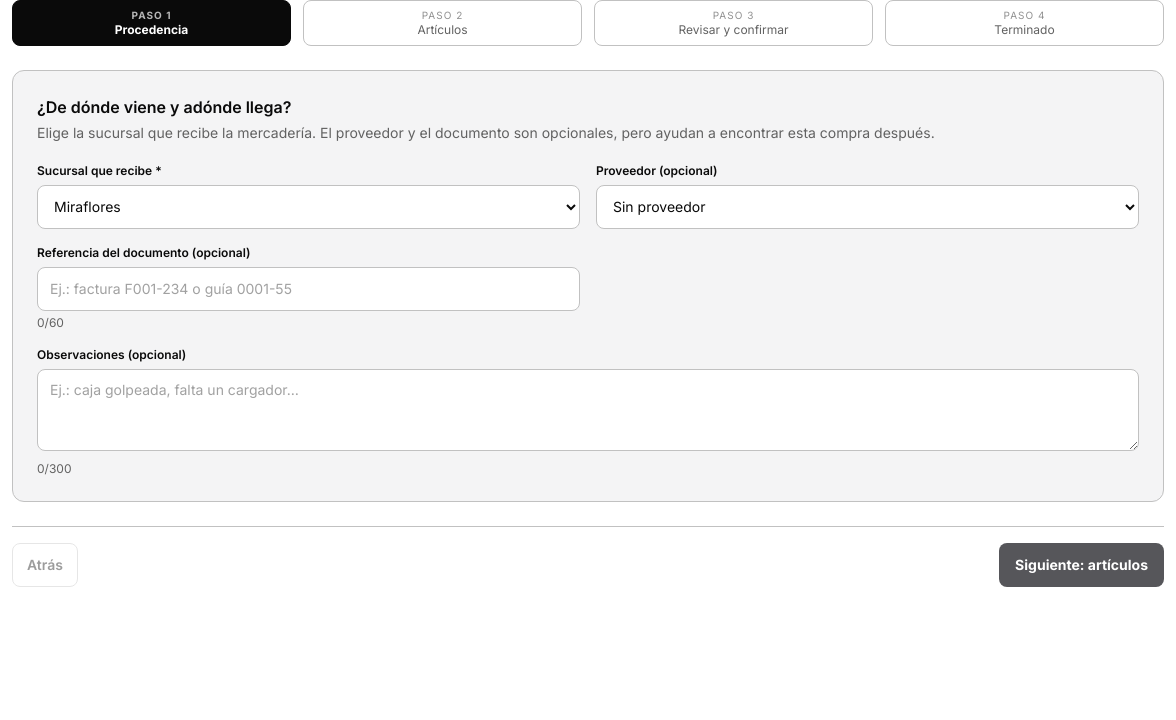
Scenario: paso 2 · Artículos › sin artículos pide agregar uno
This screenshot has width=1176, height=720.
Step 1. Click the button "Siguiente: artículos" → x=1082, y=564, box [999, 542, 1164, 586]
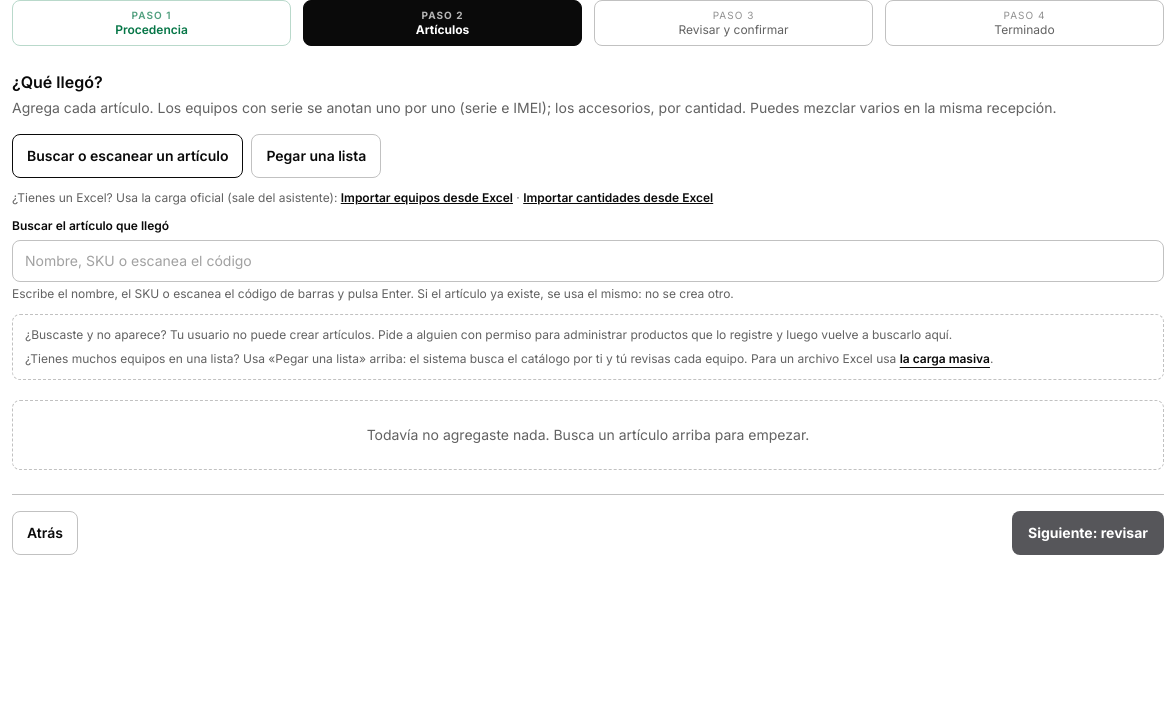
Check: the heading "¿Qué llegó?" is shown, box [12, 72, 103, 92]
Step 2. Click the button "Siguiente: revisar" → x=1088, y=532, box [1012, 510, 1164, 554]
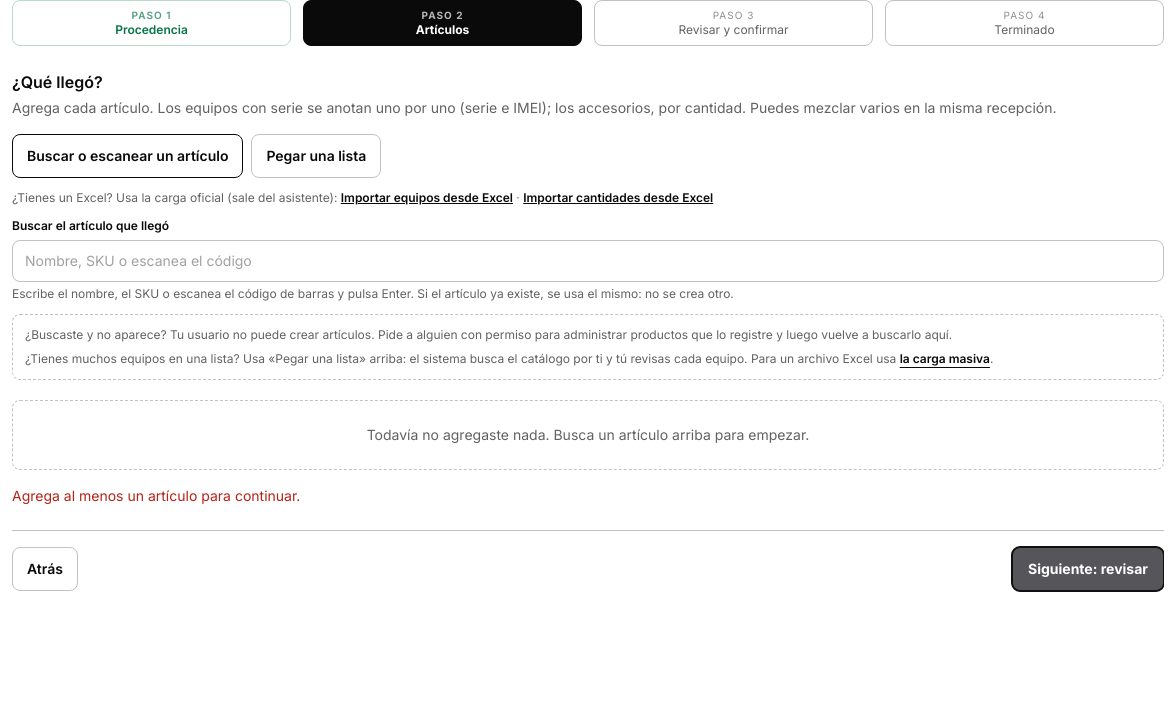
Check: the text "Agrega al menos un artículo para continuar." is shown, box [12, 486, 300, 504]
